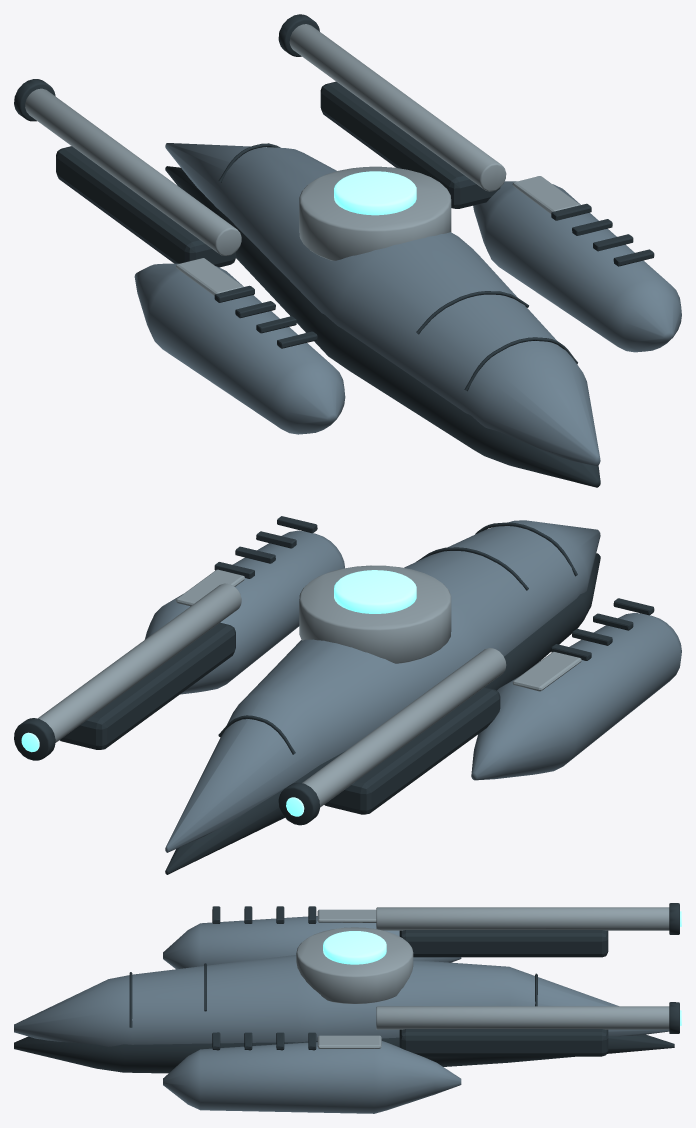
The model's file is tactical-4.glb.
3 views of the same model, one above another, from view 1: azimuth 30°, elevation 25°; view 2: azimuth 150°, elevation 25°; view 3: azimuth 270°, elevation 25° (orthographic). The views are drawn at different scales.
Visible parts, largest first — view 1: SM_Hull, SM_Wing_Left, SM_Wing_Right, SM_Weapon_Left, SM_Weapon_Right; view 2: SM_Hull, SM_Wing_Left, SM_Weapon_Right, SM_Weapon_Left, SM_Wing_Right; view 3: SM_Hull, SM_Wing_Right, SM_Weapon_Right, SM_Weapon_Left, SM_Wing_Left.
Part boxes in pixels (x1,y1,x2,y2): SM_Hull: [165, 143, 600, 487]; SM_Wing_Left: [134, 258, 345, 434]; SM_Wing_Right: [473, 176, 681, 352]; SM_Weapon_Left: [14, 79, 241, 267]; SM_Weapon_Right: [278, 14, 506, 208]; SM_Hull: [165, 520, 600, 874]; SM_Wing_Left: [471, 598, 681, 780]; SM_Weapon_Right: [14, 583, 241, 760]; SM_Weapon_Left: [278, 648, 506, 825]; SM_Wing_Right: [144, 516, 344, 694]; SM_Hull: [14, 927, 674, 1073]; SM_Wing_Right: [163, 1032, 461, 1113]; SM_Weapon_Right: [376, 1002, 681, 1056]; SM_Weapon_Left: [376, 903, 681, 957]; SM_Wing_Left: [163, 906, 461, 969].
Bounding box in the file's own units: 3.56 × 1.26 × 6.27.
